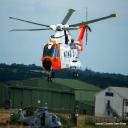helicopter: (10, 10, 121, 82)
